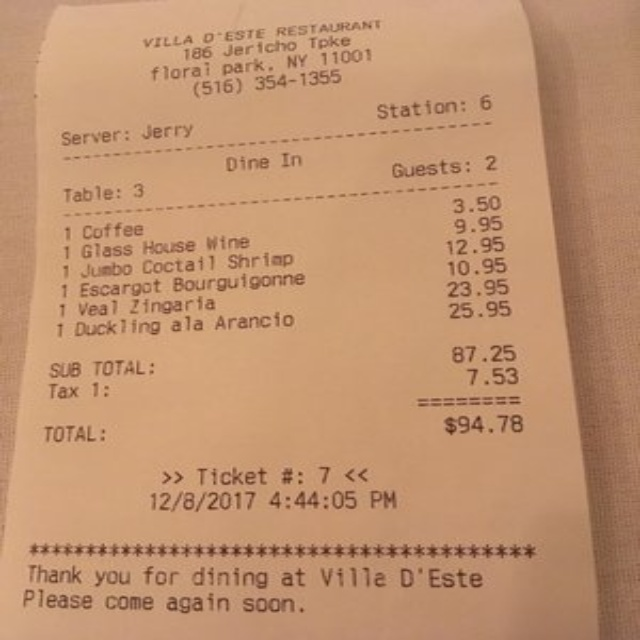invoice_table: (55, 195, 512, 339)
invoice_title: (140, 16, 386, 98)
invoice_total: (39, 413, 528, 443)
